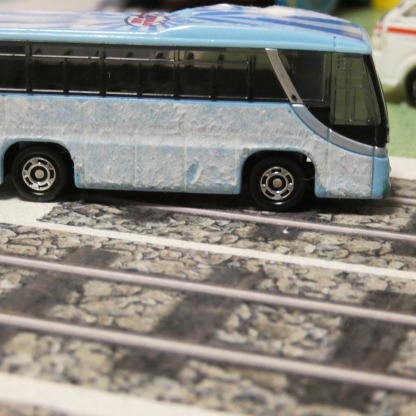car: (0, 6, 390, 203)
